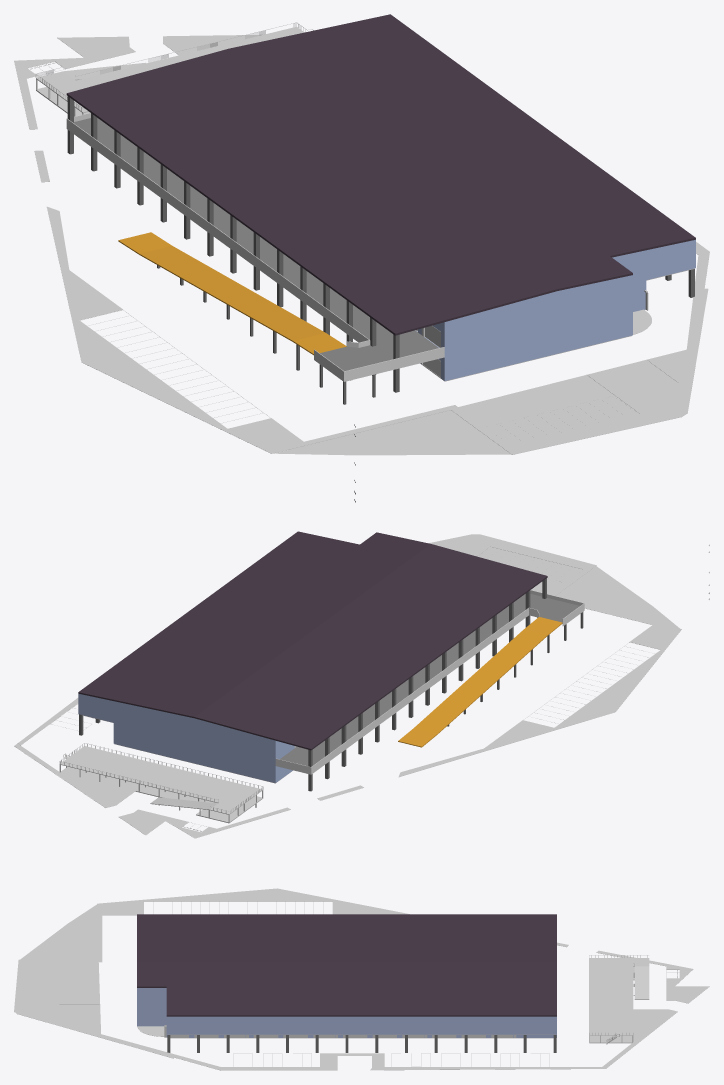
Rendered from daikou.glb.
3 views of the same model, one above another, from view 1: azimuth 30°, elevation 25°; view 2: azimuth 150°, elevation 25°; view 3: azimuth 270°, elevation 25° (orthographic). The views are drawn at different scales.
Parts seen in each view (by area): view 1: 標準屋根 鋼棒根太 - 鋼製デッキ - EPDM 境_0af9ff3, 舗装 TD_外構_芝生 [303677], サーフェス [287473], 床 一般 300 mm [246422], 標準壁 PC - 200 mm [244453], 標準壁 PC - 200 mm [205606], 床 一般 300 mm [280754], 標準壁 PC - 200 mm [245813], 舗装 TD_外構_芝生 [303720], 床 160 mm コンクリート(50 mm デッキ プレー_898e096, 標準壁 PC - 200 mm [244582], 床 一般 300 mm [279875] (+1 smaller); view 2: 標準屋根 鋼棒根太 - 鋼製デッキ - EPDM 境_0af9ff3, 舗装 TD_外構_芝生 [303677], 標準壁 PC - 200 mm [244455], 床 160 mm コンクリート(50 mm デッキ プレー_898e096, サーフェス [287473], 標準壁 PC - 200 mm [206082], 床 一般 300 mm [246422], 床 一般 300 mm [280754], 標準壁 PC - 200 mm [245813], 床 一般 300 mm [276493], 舗装 TD_外構_芝生 [303740], 舗装 TD_外構_芝生 [303720] (+2 smaller); view 3: 標準屋根 鋼棒根太 - 鋼製デッキ - EPDM 境_0af9ff3, 舗装 TD_外構_芝生 [303677], 標準壁 PC - 200 mm [250431], サーフェス [287473], 床 160 mm コンクリート(50 mm デッキ プレー_898e096, 舗装 TD_外構_芝生 [303740], 舗装 TD_外構_芝生 [303720], 標準壁 PC - 200 mm [244581], 標準壁 PC - 200 mm [234341], 床 現場打ちコンクリート 225 mm [235465], 床 160 mm コンクリート(50 mm デッキ プレー_7d498ba, 床 現場打ちコンクリート 225 mm [244587] (+1 smaller).
Part boxes in pixels (left/top/right/bottom): 標準屋根 鋼棒根太 - 鋼製デッキ - EPDM 境_0af9ff3: left=66, top=14, right=695, bottom=335; 舗装 TD_外構_芝生 [303677]: left=47, top=206, right=709, bottom=454; サーフェス [287473]: left=274, top=349, right=686, bottom=455; 床 一般 300 mm [246422]: left=74, top=118, right=438, bottom=359; 標準壁 PC - 200 mm [244453]: left=444, top=275, right=632, bottom=351; 標準壁 PC - 200 mm [205606]: left=444, top=306, right=632, bottom=380; 床 一般 300 mm [280754]: left=139, top=245, right=325, bottom=341; 標準壁 PC - 200 mm [245813]: left=67, top=118, right=370, bottom=344; 舗装 TD_外構_芝生 [303720]: left=14, top=36, right=135, bottom=129; 床 160 mm コンクリート(50 mm デッキ プレー_898e096: left=48, top=26, right=304, bottom=112; 標準壁 PC - 200 mm [244582]: left=612, top=239, right=695, bottom=283; 床 一般 300 mm [279875]: left=320, top=345, right=389, bottom=371; 標準屋根 鋼棒根太 - 鋼製デッキ - EPDM 境_0af9ff3: left=78, top=531, right=547, bottom=750; 舗装 TD_外構_芝生 [303677]: left=18, top=534, right=681, bottom=777; 標準壁 PC - 200 mm [244455]: left=78, top=693, right=275, bottom=761; 床 160 mm コンクリート(50 mm デッキ プレー_898e096: left=59, top=746, right=262, bottom=807; サーフェス [287473]: left=477, top=547, right=679, bottom=628; 標準壁 PC - 200 mm [206082]: left=114, top=723, right=275, bottom=782; 床 一般 300 mm [246422]: left=280, top=594, right=544, bottom=766; 床 一般 300 mm [280754]: left=413, top=629, right=547, bottom=734; 標準壁 PC - 200 mm [245813]: left=311, top=608, right=528, bottom=773; 床 一般 300 mm [276493]: left=61, top=766, right=263, bottom=823; 舗装 TD_外構_芝生 [303740]: left=14, top=743, right=135, bottom=807; 舗装 TD_外構_芝生 [303720]: left=118, top=807, right=290, bottom=838; 標準屋根 鋼棒根太 - 鋼製デッキ - EPDM 境_0af9ff3: left=137, top=914, right=556, bottom=1016; 舗装 TD_外構_芝生 [303677]: left=14, top=888, right=601, bottom=1070; 標準壁 PC - 200 mm [250431]: left=167, top=1016, right=556, bottom=1034; サーフェス [287473]: left=20, top=904, right=100, bottom=1033; 床 160 mm コンクリート(50 mm デッキ プレー_898e096: left=589, top=958, right=633, bottom=1035; 舗装 TD_外構_芝生 [303740]: left=600, top=1009, right=677, bottom=1068; 舗装 TD_外構_芝生 [303720]: left=596, top=950, right=709, bottom=1003; 標準壁 PC - 200 mm [244581]: left=137, top=988, right=166, bottom=1007; 標準壁 PC - 200 mm [234341]: left=137, top=1007, right=166, bottom=1026; 床 現場打ちコンクリート 225 mm [235465]: left=170, top=1037, right=553, bottom=1038; 床 160 mm コンクリート(50 mm デッキ プレー_7d498ba: left=634, top=966, right=649, bottom=999; 床 現場打ちコンクリート 225 mm [244587]: left=167, top=1034, right=556, bottom=1034.
Bounding box in the file's own units: 160 × 20.4 × 258.
